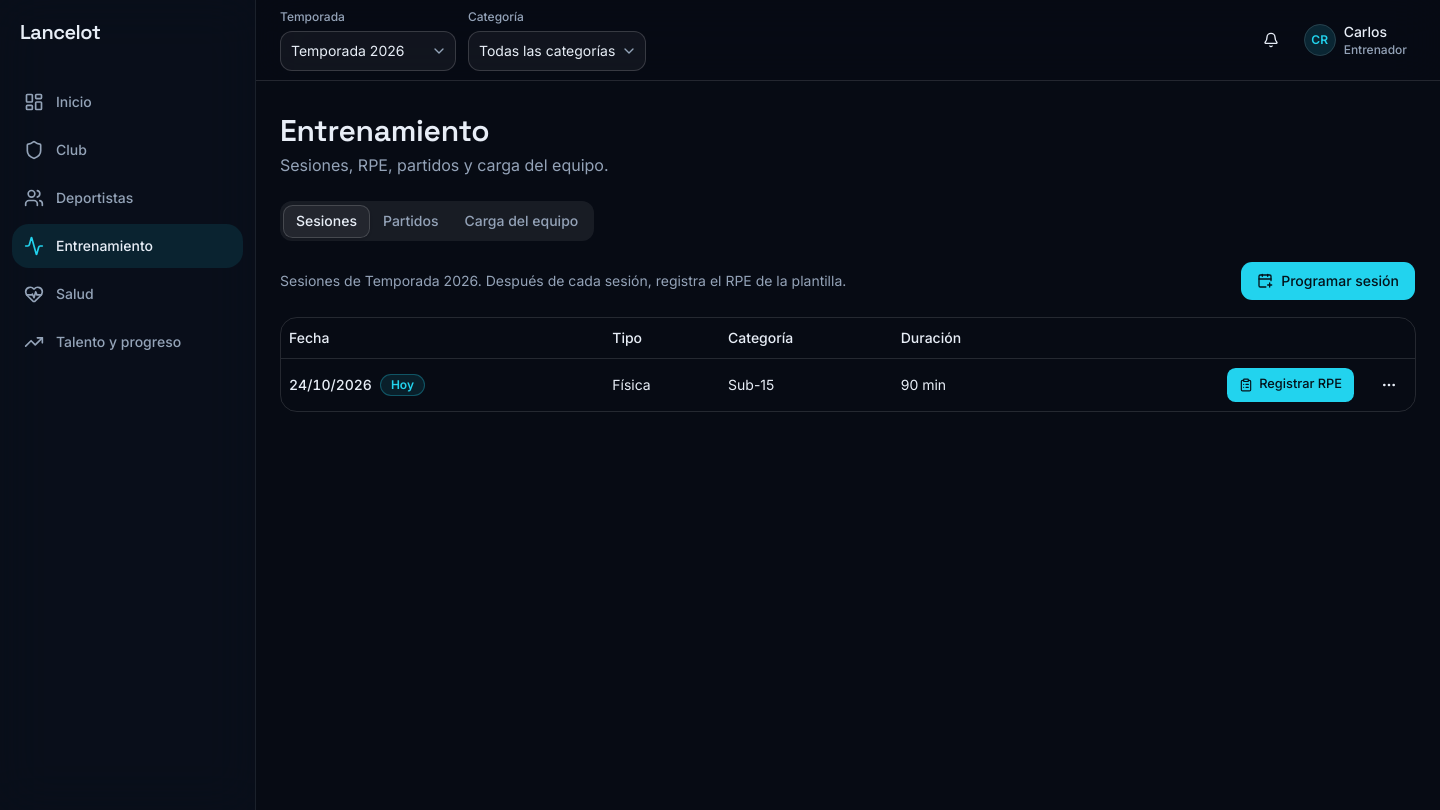
Scenario: registro rápido de RPE › crea las cargas nuevas y actualiza las existentes con un solo Guardar todo
Click the button "Registrar RPE" at (1291, 384), box top-left (1226, 366), bottom-right (1355, 402)
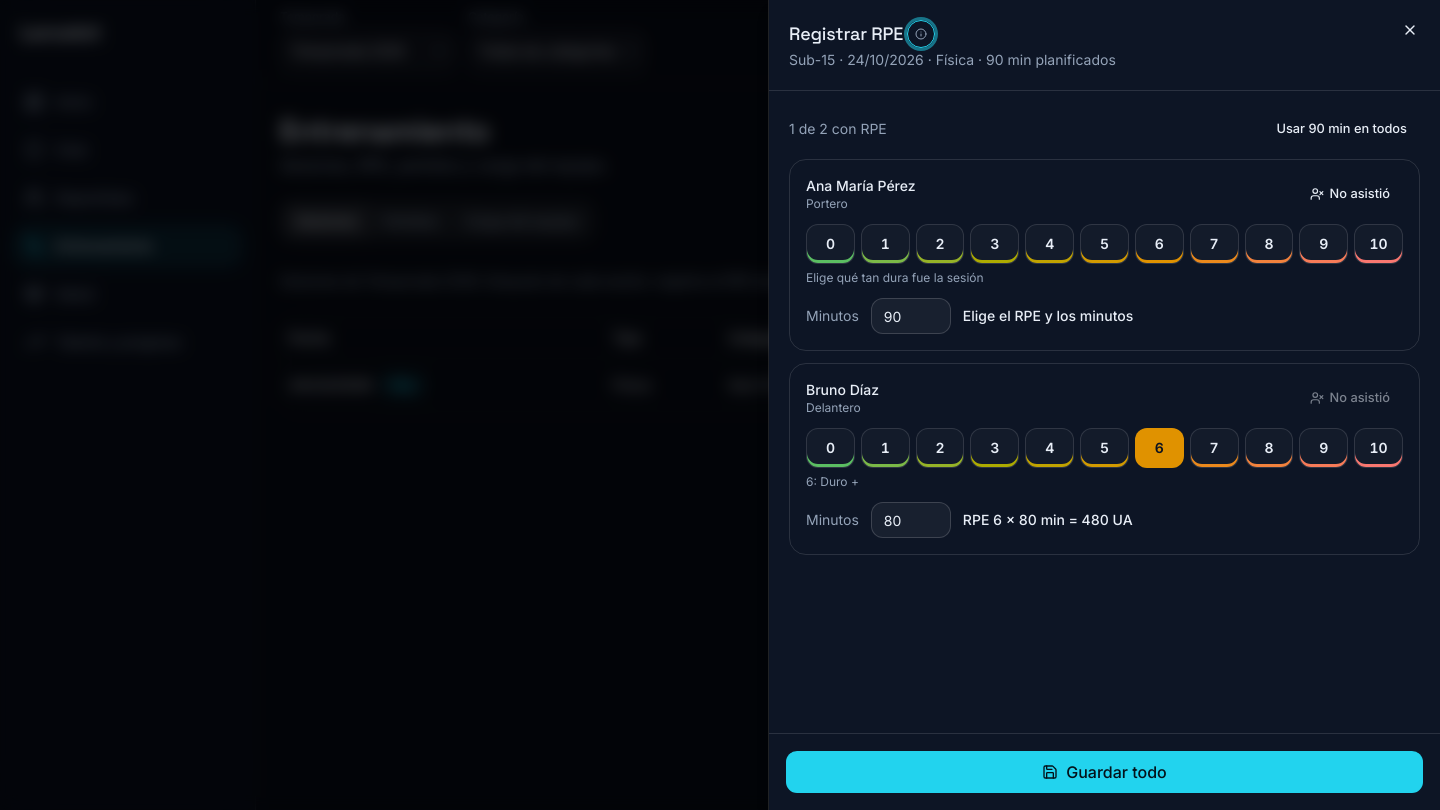
Now the text "Ana María Pérez" is shown, box top-left (806, 176), bottom-right (916, 196)
Click the radio button named "7: Muy duro" at (1214, 244), box top-left (1190, 224), bottom-right (1238, 264)
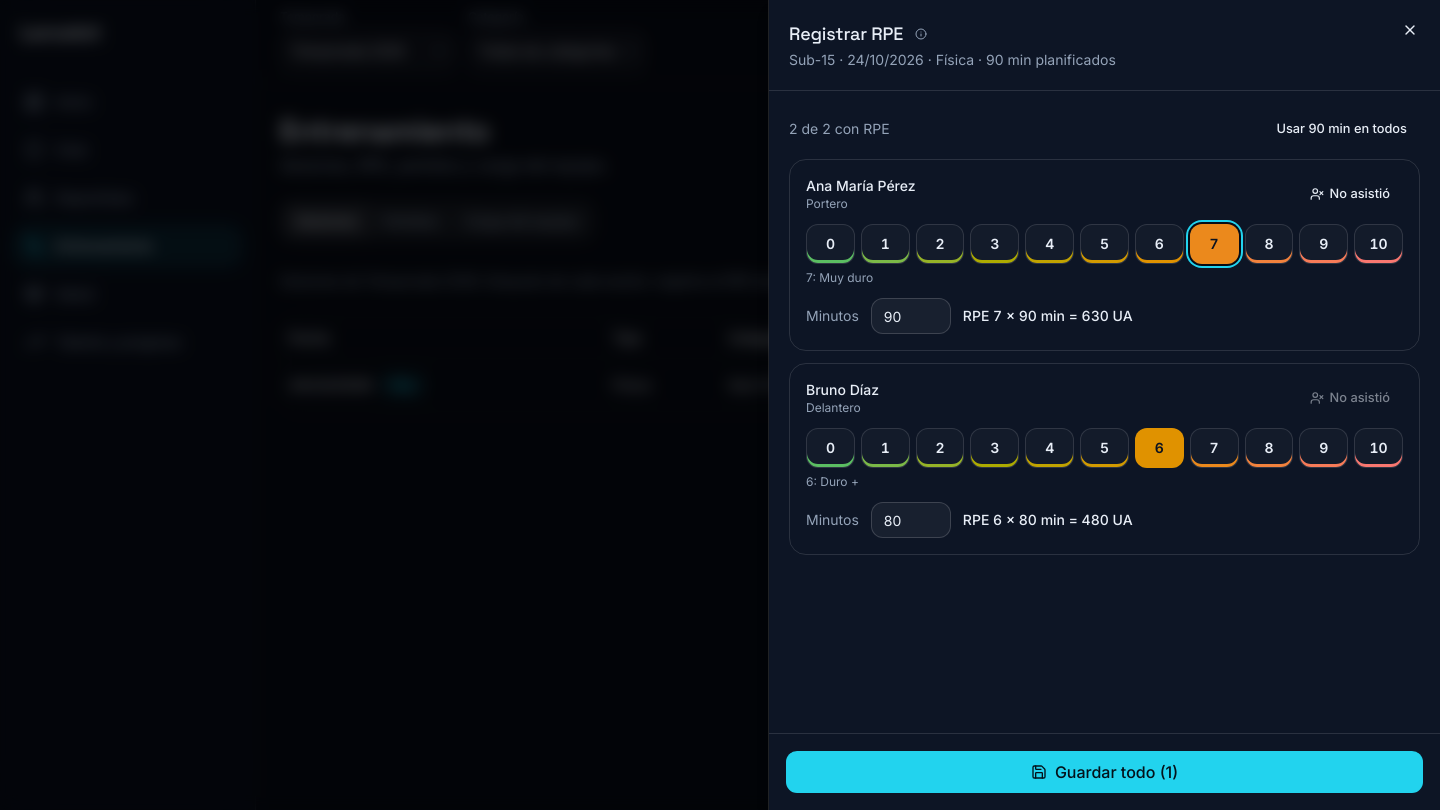
Now the text "RPE 7 × 90 min = 630 UA" is shown, box top-left (963, 306), bottom-right (1133, 326)
Click the radio button named "8: Muy duro +" at (1269, 448), box top-left (1244, 428), bottom-right (1293, 468)
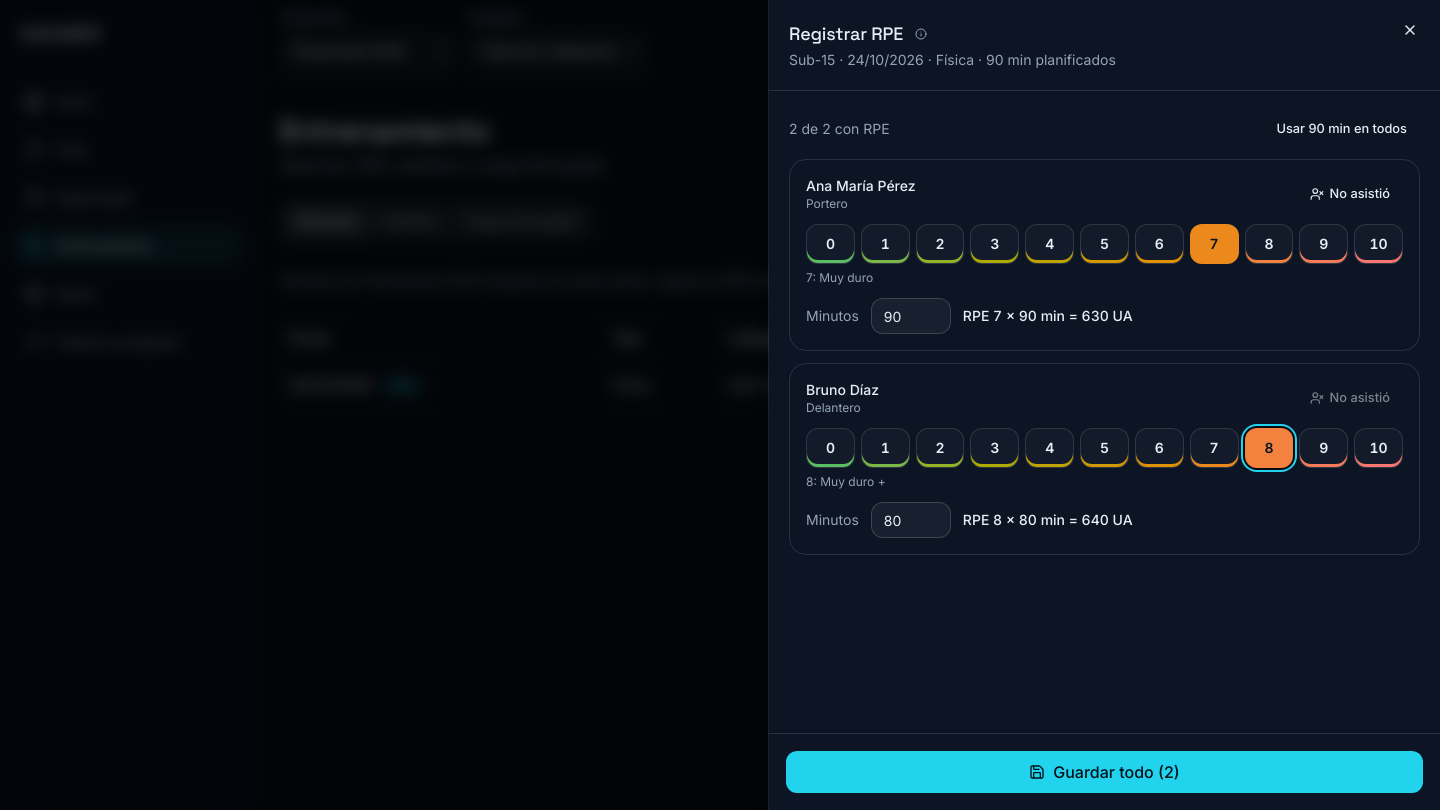
Click the button "Guardar todo (2)" at (1104, 772), box top-left (785, 750), bottom-right (1424, 794)
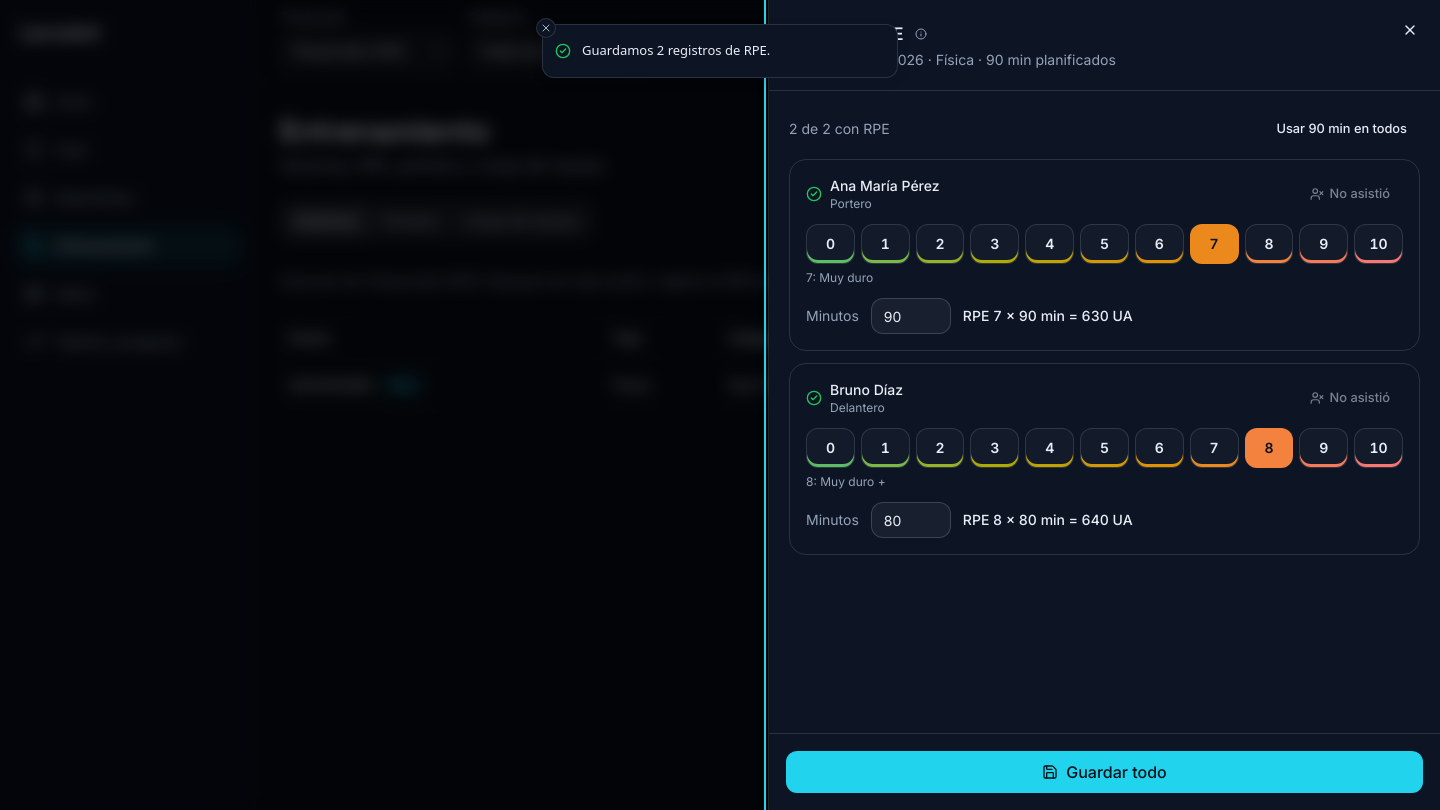
Now the text "Guardamos 2 registros de RPE." is shown, box top-left (582, 41), bottom-right (770, 60)
